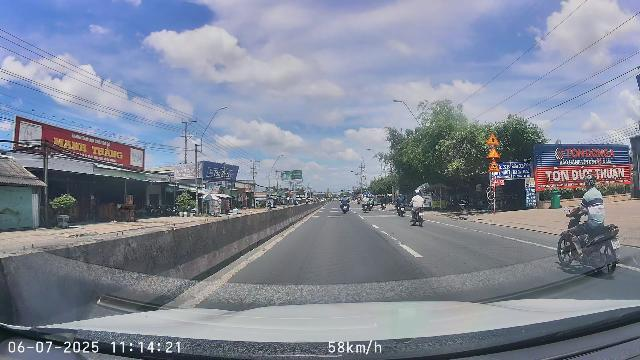207-giao-nhau-voi-duong-khong-uu-tien: (487, 132, 499, 145)
209-giao-nhau-co-tin-hieu-den: (487, 146, 500, 159)
224-duong-nguoi-di-bo-cat-ngang: (488, 160, 500, 172)
